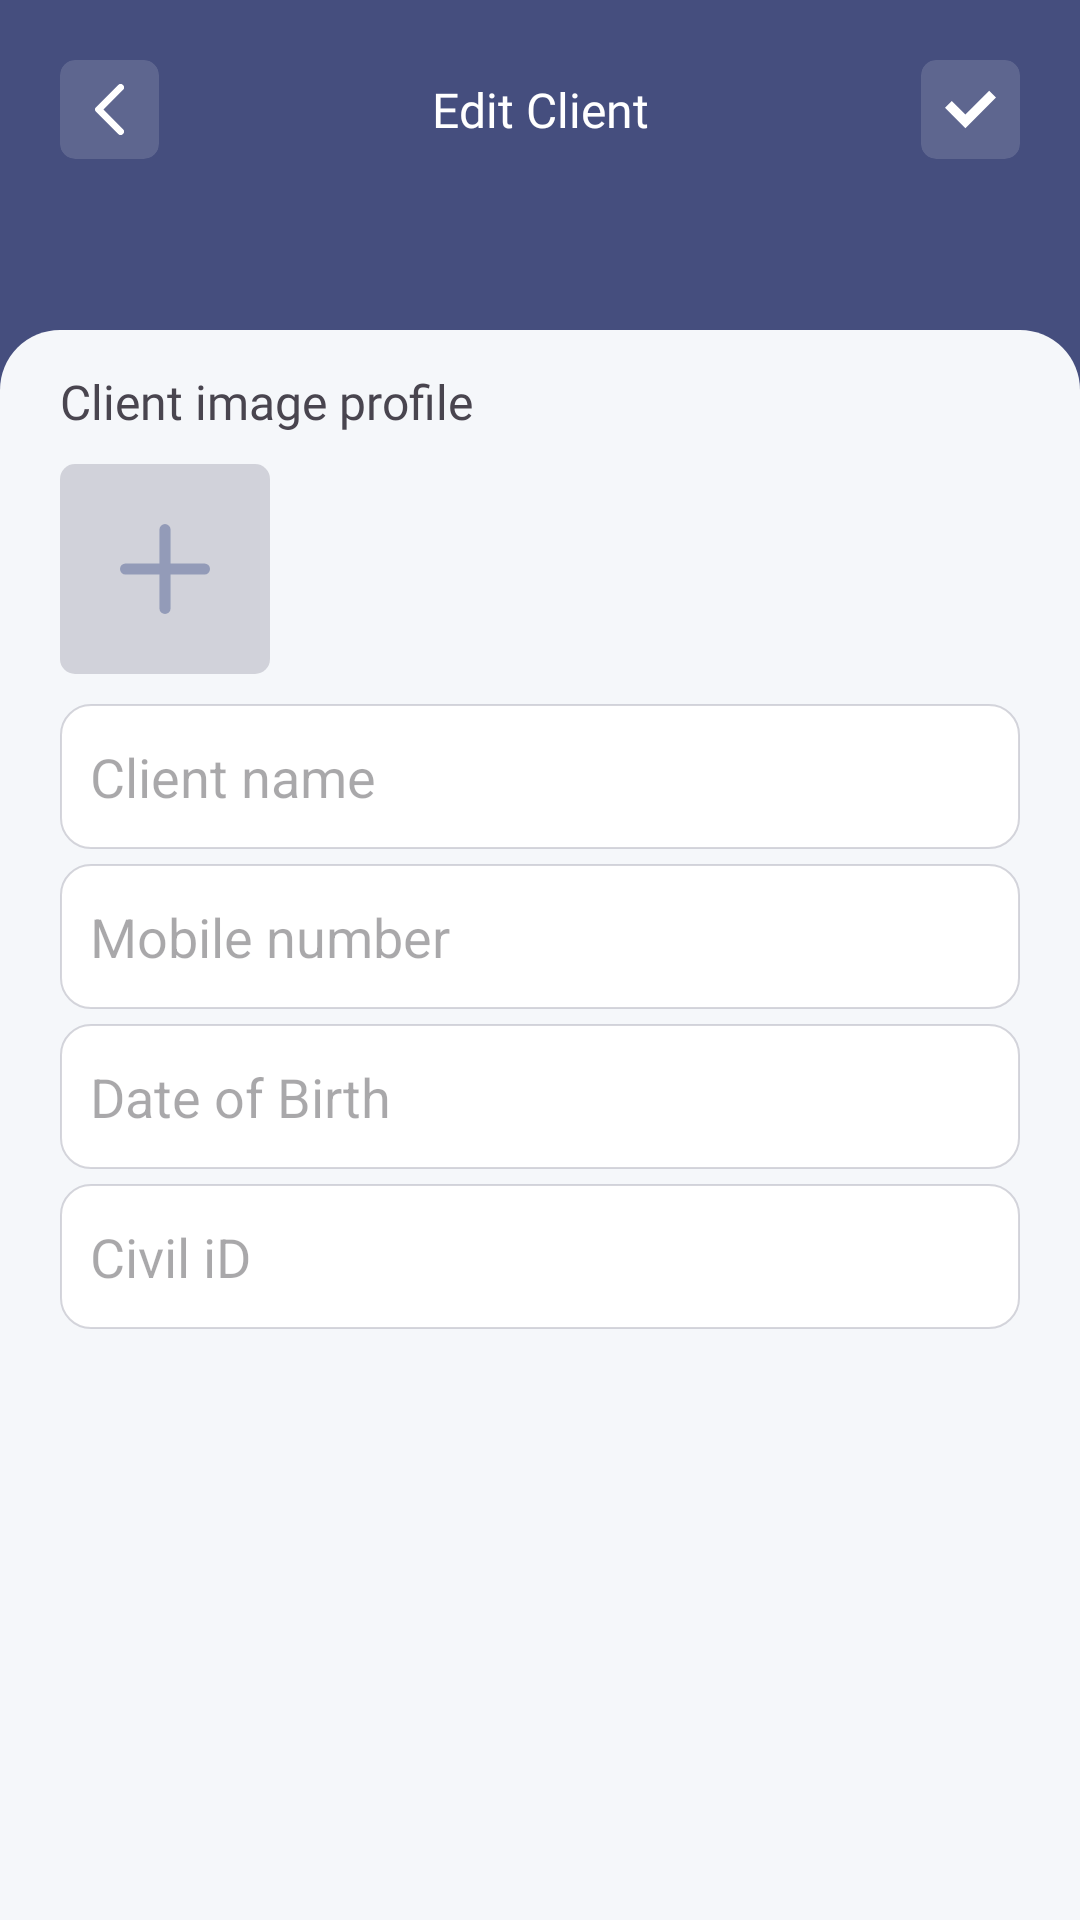

Locate icon controls on the screen. Image size 1080x1920, boxes as (x1, y1, x2, y2).
add: (60, 464, 270, 674)
back: (60, 60, 159, 159)
done: (921, 60, 1020, 159)
